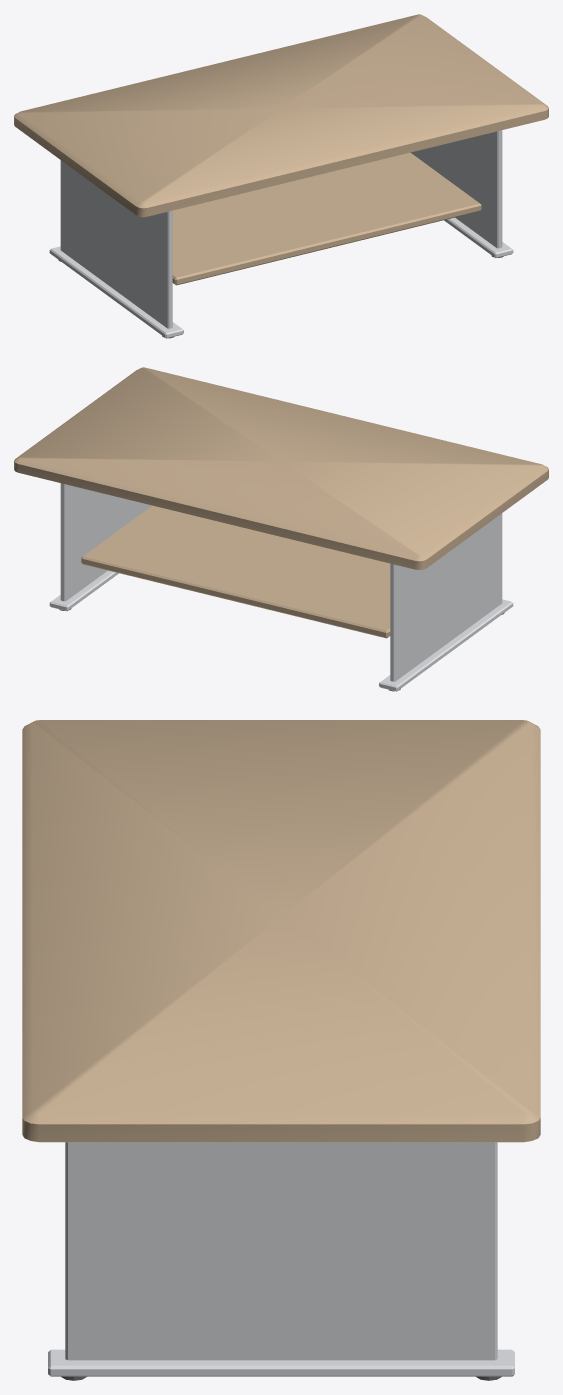
File: coffee_table_lobby.glb
The picture shows the model from 3 angles, top to bottom: view 1: azimuth 30°, elevation 25°; view 2: azimuth 150°, elevation 25°; view 3: azimuth 270°, elevation 25°; orthographic projection. The views are drawn at different scales.
Visible parts, largest first — view 1: lobby-coffee-table; view 2: lobby-coffee-table; view 3: lobby-coffee-table.
Boxes of the visible parts, left/top/right/bottom form: lobby-coffee-table: left=14, top=14, right=548, bottom=338; lobby-coffee-table: left=14, top=367, right=548, bottom=691; lobby-coffee-table: left=22, top=720, right=540, bottom=1380.
Size of the model in its own units: 1.1 by 0.38 by 0.6.
